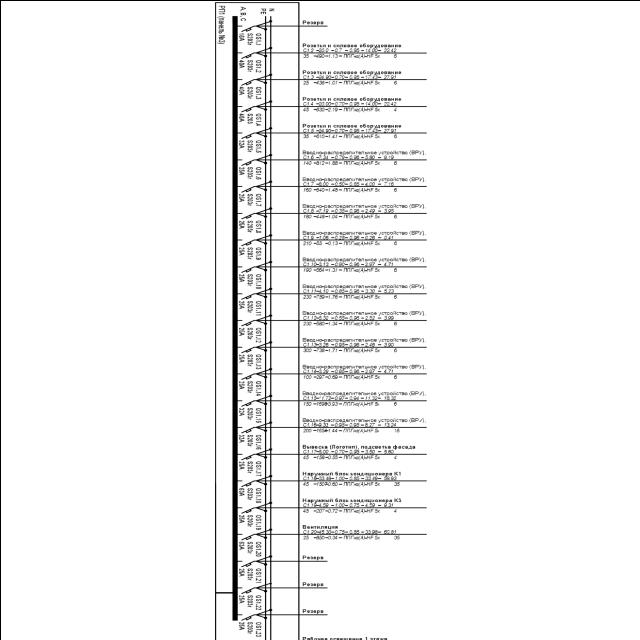-: (236, 192, 253, 208), (237, 56, 253, 72), (236, 566, 252, 582), (236, 218, 252, 234), (236, 460, 252, 476), (236, 540, 252, 556), (236, 272, 252, 288), (236, 326, 252, 342), (236, 244, 252, 260), (236, 138, 252, 154), (237, 84, 253, 100), (236, 353, 252, 369), (236, 513, 252, 529), (236, 620, 252, 636), (238, 30, 254, 46), (236, 380, 252, 396), (236, 164, 252, 180), (236, 110, 252, 126), (236, 299, 252, 315), (235, 434, 252, 449), (236, 407, 252, 422), (237, 594, 252, 610), (236, 487, 252, 502), (215, 3, 227, 15)
QF: (238, 24, 254, 32), (238, 50, 254, 58), (239, 77, 255, 85), (239, 104, 255, 112), (239, 130, 255, 138), (239, 157, 255, 165), (238, 184, 254, 192), (238, 211, 254, 219), (239, 238, 255, 246), (239, 264, 255, 272), (239, 291, 255, 299), (239, 318, 255, 326), (238, 344, 254, 352), (239, 398, 255, 406), (238, 425, 254, 433), (239, 479, 255, 487), (238, 506, 254, 514), (238, 532, 254, 540), (238, 558, 254, 566), (239, 585, 255, 593), (239, 612, 255, 620), (238, 372, 254, 379), (238, 452, 254, 459)
